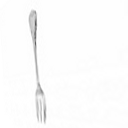fork: (21, 7, 53, 128)
